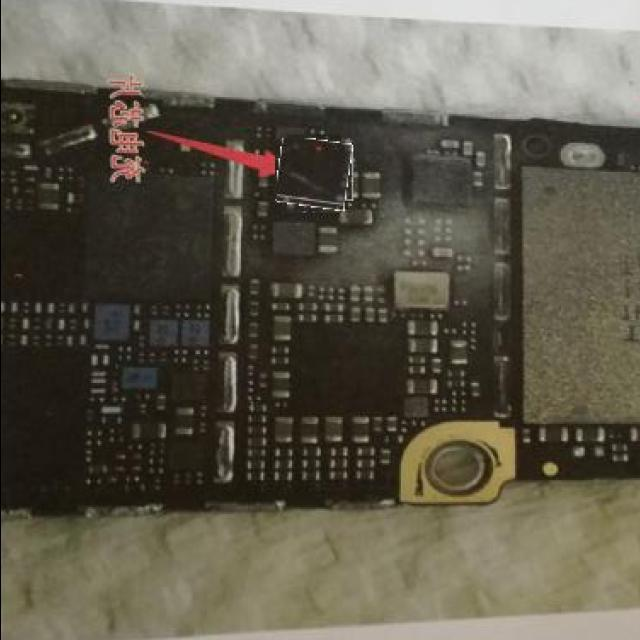Burn: (276, 137, 349, 209)
